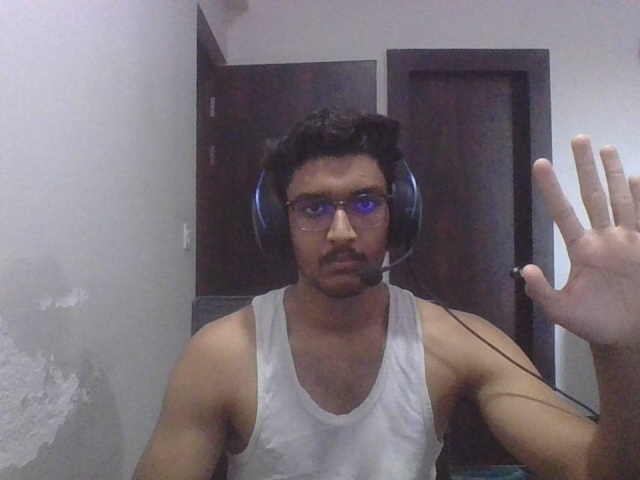Hello: (513, 129, 640, 351)
